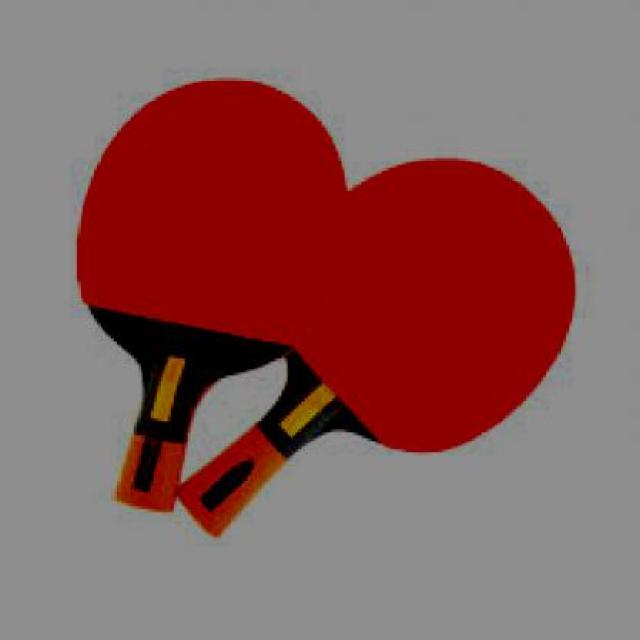table_tennis_racket: (280, 155, 581, 466), (68, 73, 350, 384)
